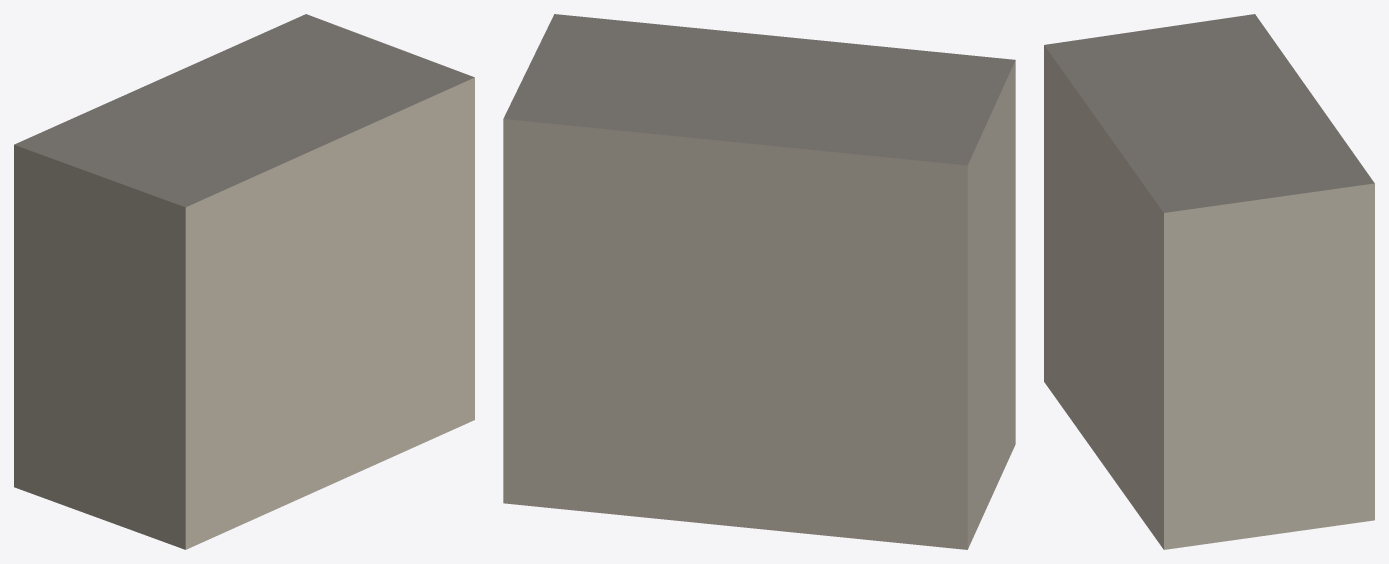
3 renders of one model, left to right at view 1: azimuth 30°, elevation 25°; view 2: azimuth 150°, elevation 25°; view 3: azimuth 270°, elevation 25°, orthographic. The views are drawn at different scales.
Visible parts, largest first — view 1: HP-w1159141676; view 2: HP-w1159141676; view 3: HP-w1159141676.
Part boxes in pixels (x1=…): HP-w1159141676: x1=14, y1=14, x2=474, y2=549; HP-w1159141676: x1=503, y1=14, x2=1015, y2=549; HP-w1159141676: x1=1044, y1=14, x2=1374, y2=549.
Size of the model in its own units: 22.8 by 18 by 16.01.
